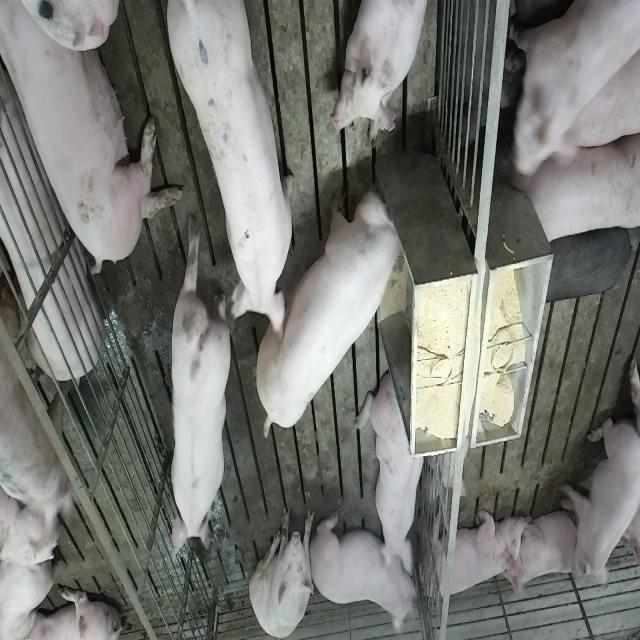Feeding: (258, 178, 412, 440)
Lateral_lying: (4, 0, 184, 273), (0, 47, 100, 379)
Sitting: (250, 501, 316, 636)
Standing: (161, 5, 297, 339), (506, 1, 638, 180), (1, 266, 76, 534), (160, 286, 230, 558), (514, 119, 638, 243), (536, 222, 638, 308)
Sternal_lying: (563, 408, 639, 592), (336, 0, 434, 141), (360, 372, 427, 576), (312, 513, 424, 632), (426, 505, 518, 603), (504, 501, 578, 599)
